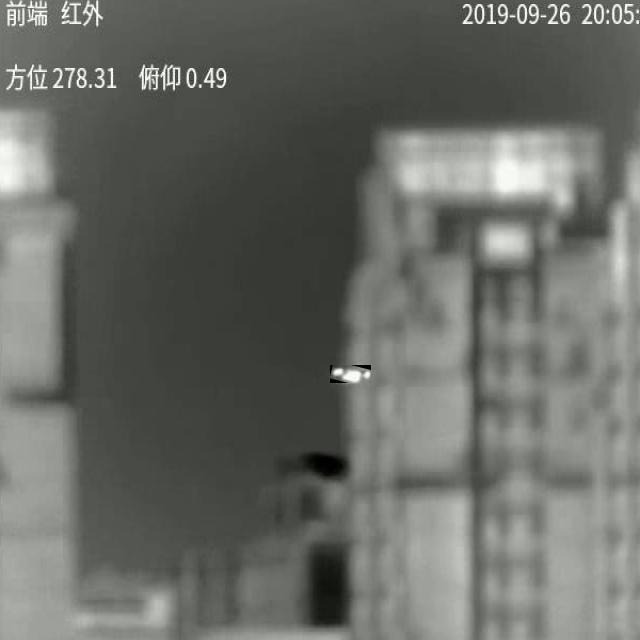drone: (331, 367, 371, 383)
